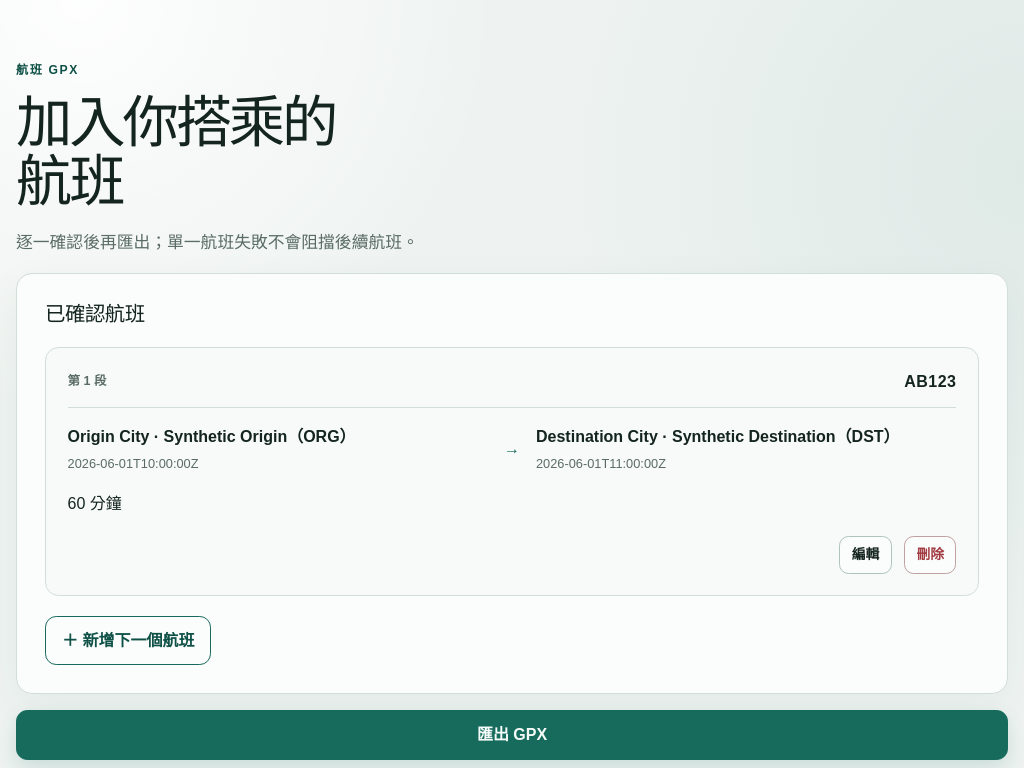
Test: FlightPage › asks for final confirmation before exporting
Expected: the text "AB123" is shown, [904, 369, 956, 395]
What coordinates should you click on to do the following:
click the button "匯出 GPX"
I would click on:
 (512, 735)
Its box is [16, 710, 1008, 760].
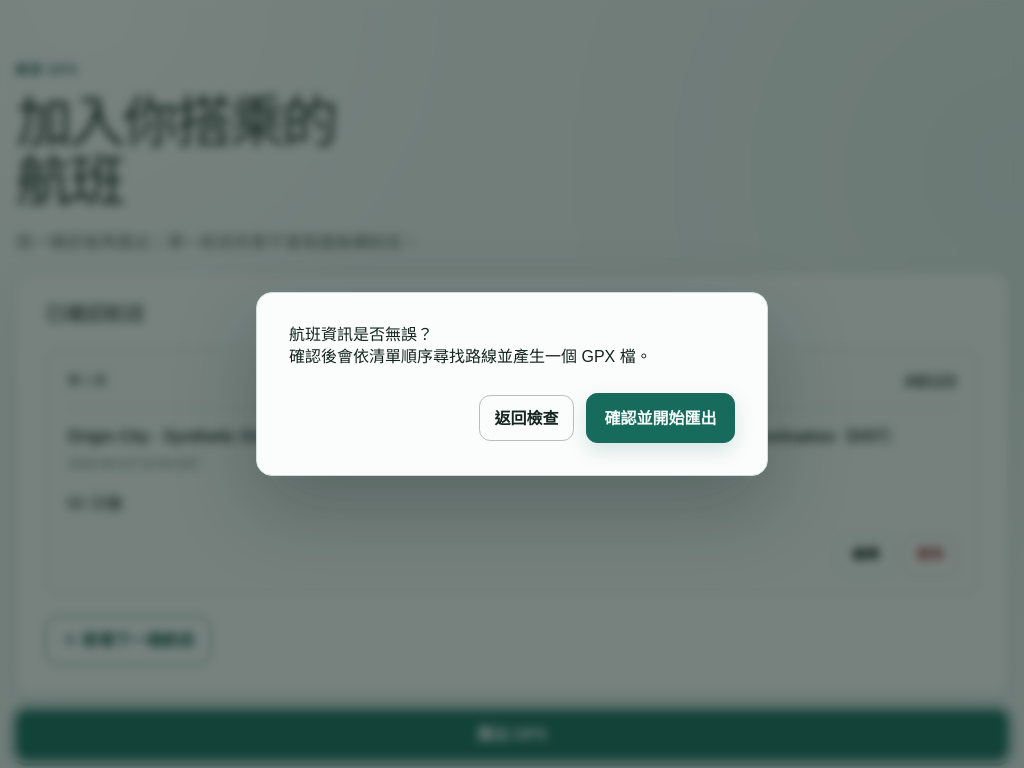
Expected: the heading "航班資訊是否無誤？" is shown, [289, 326, 433, 343]
Expected: the button "確認並開始匯出" is shown, [586, 393, 735, 443]
